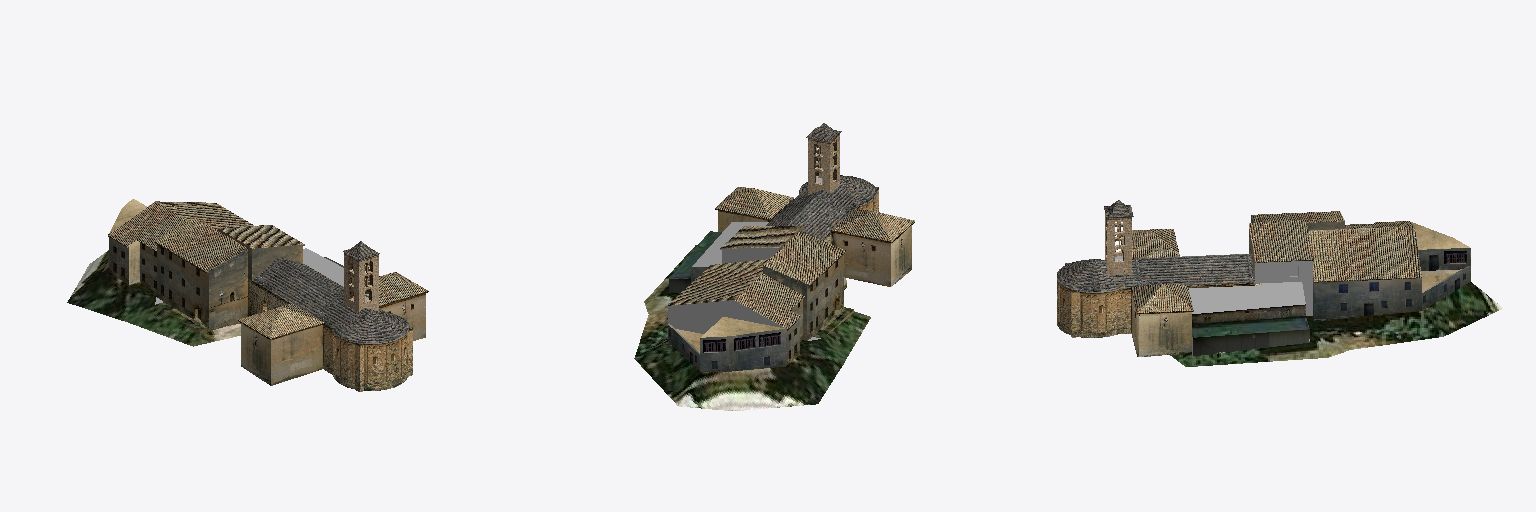
3 views of the same model, side by side, from view 1: azimuth 30°, elevation 25°; view 2: azimuth 150°, elevation 25°; view 3: azimuth 270°, elevation 25° (orthographic).
Visible parts, largest first — view 1: Object_Can_Castells_15.jpg, Object_Santa_Cecilia_15.jpg, Object_Google_Earth_Snapshot.jpg, Object_Esglesia_Abrera_11.jpg, Object_Esglesia_Abrera_08.jpg, Object_Esglesia_Abrera_06.jpg, Object_Esglesia_Abrera_07.jpg, Object_Esglesia_Abrera_05.jpg, Object_Esglesia_Abrera_04.jpg, Object_Esglesia_Abrera_02.jpg, Object_default-grey.jpg, Object_Esglesia_Abrera_01.jpg; view 2: Object_Google_Earth_Snapshot.jpg, Object_Can_Castells_15.jpg, Object_default-grey.jpg, Object_Santa_Cecilia_15.jpg, Object_Esglesia_Abrera_06.jpg, Object_Esglesia_Abrera_10.jpg, Object_Esglesia_Abrera_11.jpg, Object_Esglesia_Abrera_07.jpg, Object_Esglesia_Abrera_02.jpg, Object_Esglesia_Abrera_08.jpg, Object_Google_Earth_Snapshot_1.jpg; view 3: Object_Can_Castells_15.jpg, Object_Google_Earth_Snapshot.jpg, Object_Esglesia_Abrera_10.jpg, Object_Santa_Cecilia_15.jpg, Object_default-grey.jpg, Object_Esglesia_Abrera_07.jpg, Object_Esglesia_Abrera_05.jpg, Object_Esglesia_Abrera_09.jpg, Object_Google_Earth_Snapshot_1.jpg, Object_Esglesia_Abrera_02.jpg, Object_Esglesia_Abrera_09_1_.jpg, Object_Esglesia_Abrera_06.jpg (+1 smaller).
Part boxes in pixels (x1,y1,x2,y2): Object_Can_Castells_15.jpg: (108, 201, 427, 338); Object_Santa_Cecilia_15.jpg: (253, 247, 411, 343); Object_Google_Earth_Snapshot.jpg: (67, 250, 240, 346); Object_Esglesia_Abrera_11.jpg: (109, 237, 208, 334); Object_Esglesia_Abrera_08.jpg: (200, 229, 304, 334); Object_Esglesia_Abrera_06.jpg: (271, 291, 428, 385); Object_Esglesia_Abrera_07.jpg: (109, 199, 270, 385); Object_Esglesia_Abrera_05.jpg: (323, 324, 412, 391); Object_Esglesia_Abrera_04.jpg: (364, 330, 408, 390); Object_Esglesia_Abrera_02.jpg: (344, 252, 378, 312); Object_default-grey.jpg: (127, 246, 407, 343); Object_Esglesia_Abrera_01.jpg: (248, 279, 289, 316); Object_Google_Earth_Snapshot.jpg: (634, 245, 870, 410); Object_Can_Castells_15.jpg: (666, 187, 914, 329); Object_default-grey.jpg: (666, 178, 876, 340); Object_Santa_Cecilia_15.jpg: (766, 127, 878, 239); Object_Esglesia_Abrera_06.jpg: (676, 209, 891, 352); Object_Esglesia_Abrera_10.jpg: (668, 267, 785, 371); Object_Esglesia_Abrera_11.jpg: (786, 255, 853, 365); Object_Esglesia_Abrera_07.jpg: (701, 198, 914, 337); Object_Esglesia_Abrera_02.jpg: (806, 134, 839, 194); Object_Esglesia_Abrera_08.jpg: (763, 226, 808, 340); Object_Google_Earth_Snapshot_1.jpg: (669, 231, 721, 278); Object_Can_Castells_15.jpg: (1121, 211, 1421, 312); Object_Google_Earth_Snapshot.jpg: (1170, 282, 1502, 366); Object_Esglesia_Abrera_10.jpg: (1313, 248, 1470, 320); Object_Santa_Cecilia_15.jpg: (1057, 205, 1254, 291); Object_default-grey.jpg: (1057, 227, 1312, 355); Object_Esglesia_Abrera_07.jpg: (1137, 222, 1469, 356); Object_Esglesia_Abrera_05.jpg: (1065, 264, 1131, 337); Object_Esglesia_Abrera_09.jpg: (1193, 329, 1309, 355); Object_Google_Earth_Snapshot_1.jpg: (1192, 316, 1309, 337); Object_Esglesia_Abrera_02.jpg: (1105, 214, 1131, 274); Object_Esglesia_Abrera_09_1_.jpg: (1192, 304, 1305, 323); Object_Esglesia_Abrera_06.jpg: (1121, 249, 1461, 353).
Size of the model in its own units: 1.54 by 0.8438 by 2.5.
28 materials, 22 textured.